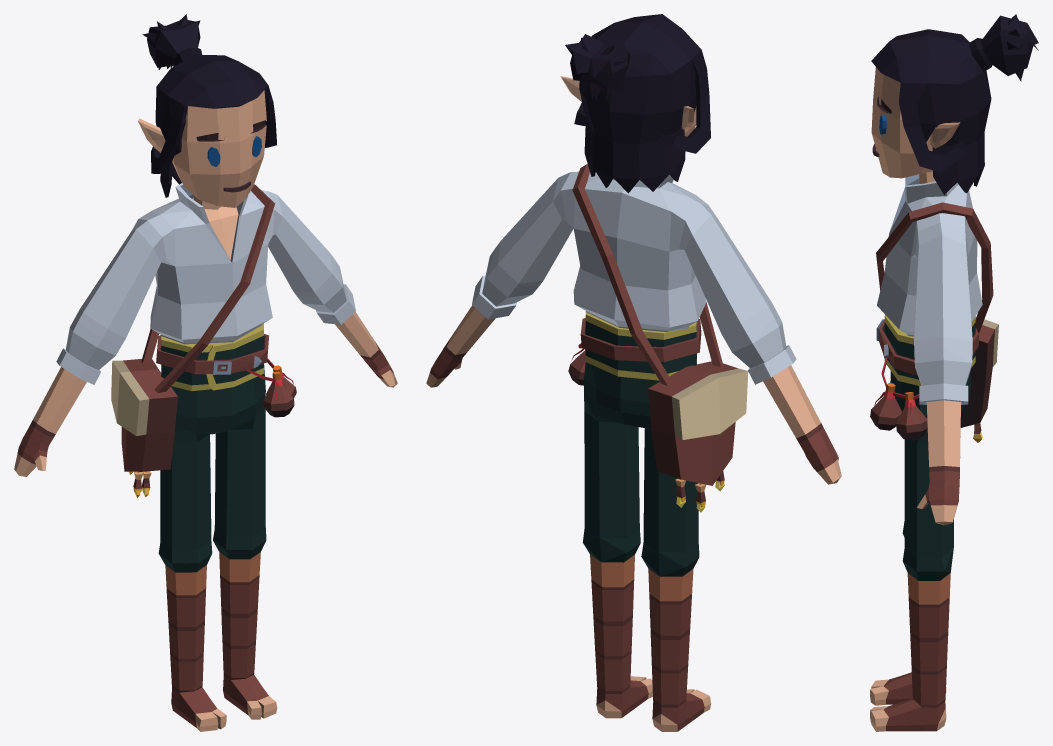
File: Low_Poly_Elf_Mage_Fantasy_Pack.glb
The picture shows the model from 3 angles, left to right: view 1: azimuth 30°, elevation 25°; view 2: azimuth 150°, elevation 25°; view 3: azimuth 270°, elevation 25°; orthographic projection. The views are drawn at different scales.
Visible parts, largest first — view 1: unnamed (×6); view 2: unnamed (×4); view 3: unnamed (×6).
Part boxes in pixels (<box>): unnamed (×6): <box>14,14,397,731</box>; unnamed (×4): <box>426,14,841,731</box>; unnamed (×6): <box>870,14,1038,731</box>.
Bounding box in the file's own units: 2.77 × 4.58 × 1.01.
Materials: 1 (1 with a texture image).
